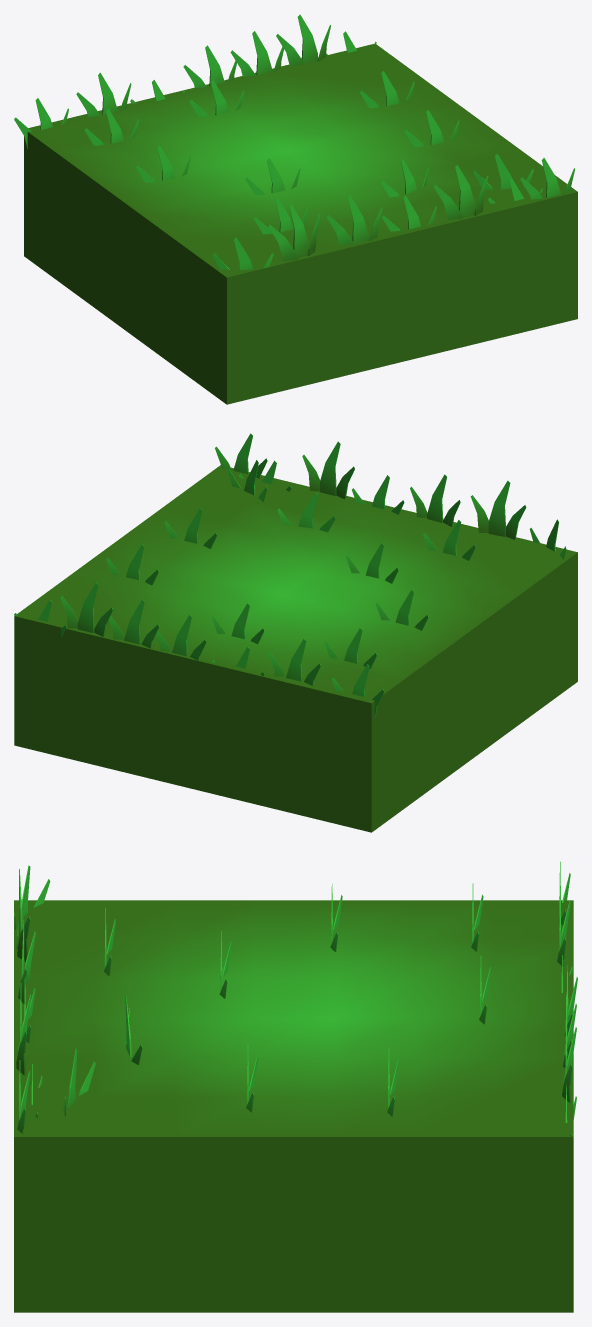
File: ПЛАТФОРМА.fbx
3 renders of one model, top to bottom at view 1: azimuth 30°, elevation 25°; view 2: azimuth 150°, elevation 25°; view 3: azimuth 270°, elevation 25°, orthographic. The views are drawn at different scales.
Parts seen in each view (by area): view 1: Plane; view 2: Plane; view 3: Plane.
Part boxes in pixels (x1,y1,x2,y2): Plane: (14, 14, 577, 404); Plane: (14, 433, 577, 832); Plane: (14, 861, 577, 1312).
Bounding box in the file's own units: 4722 × 2268 × 4591.
